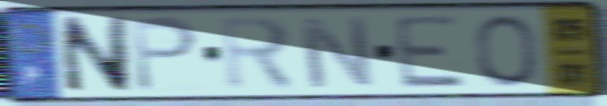E: (391, 13, 471, 91)
N: (55, 13, 134, 97), (295, 15, 378, 91)
O: (471, 12, 542, 90)
P: (128, 14, 201, 95)
R: (218, 14, 298, 93)
